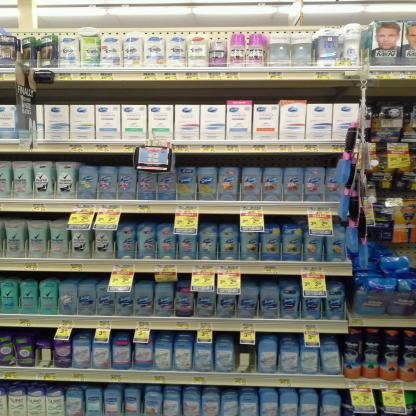Void: (236, 340, 256, 372)
